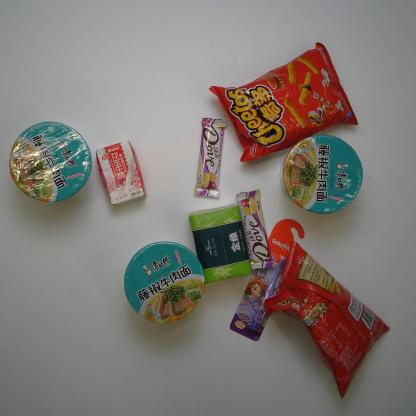Chocolate: (234, 188, 274, 273), (191, 113, 229, 200)
Instant Noodles: (7, 117, 94, 206), (279, 135, 369, 218), (122, 240, 207, 324)
Milk: (92, 138, 148, 208)
Personal Hygiene: (227, 217, 309, 341)
Puffed Food: (261, 238, 391, 401), (209, 41, 358, 169)
Tissue: (185, 202, 256, 286)
